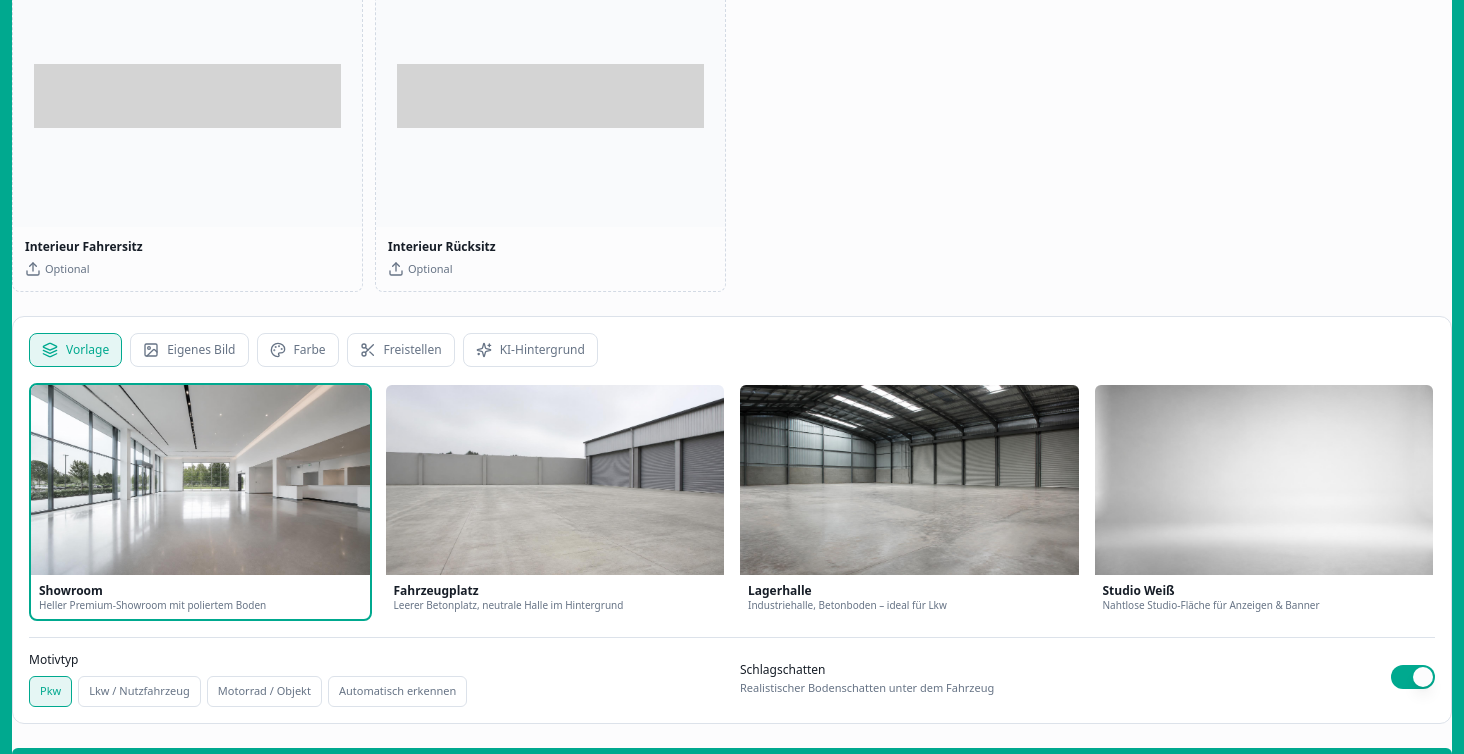
Scenario: Freisteller: unabhängige Original-Uploads › 3/4 Heck rechts kann als einziges Original unabhängig verarbeitet werden
Earlier steps of the test are not shown.
(page scrolled)
Click the button "Freistellen". click: (401, 350)
box: [347,332,455,366]
(page scrolled)
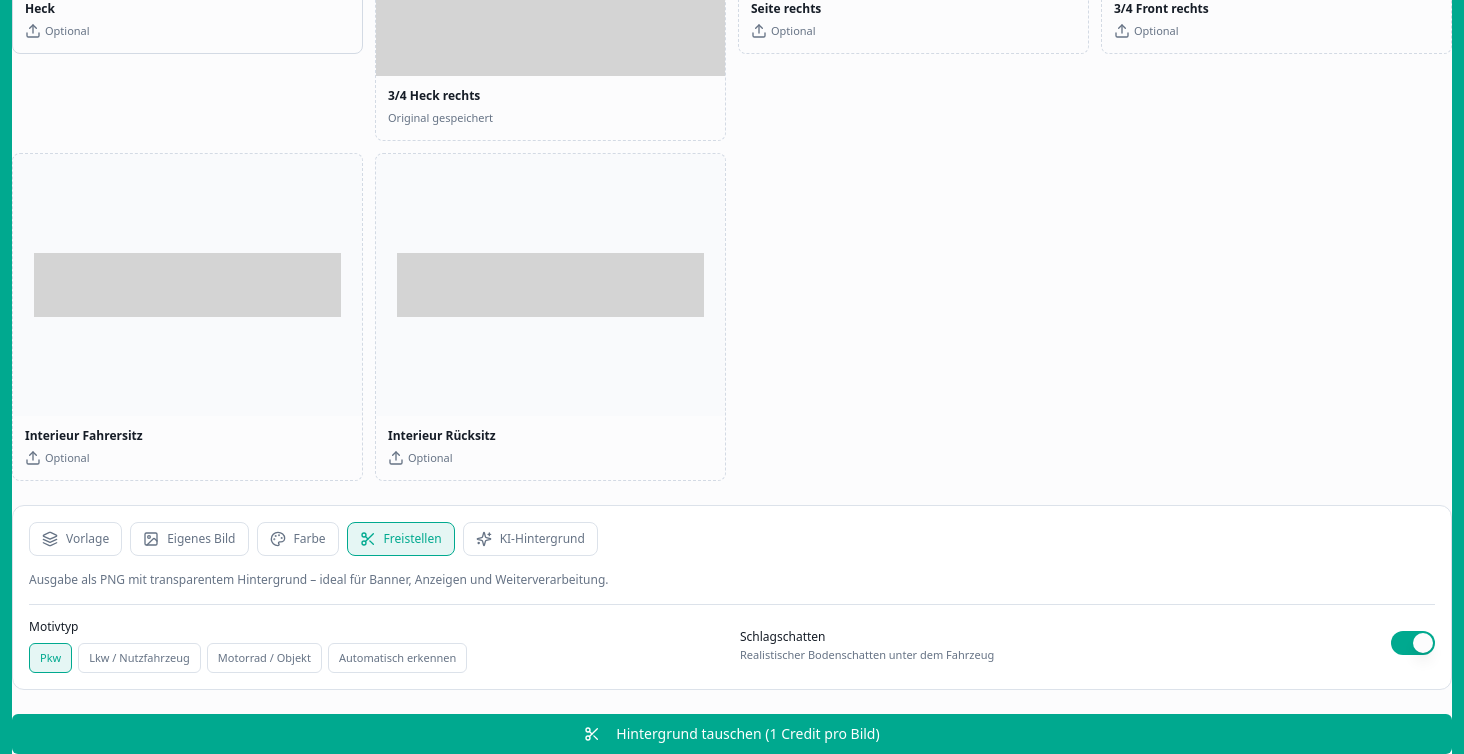
Click the button "Hintergrund tauschen (1 Credit pro Bild)". click: (732, 734)
box: [12,714,1452,753]
(page scrolled)
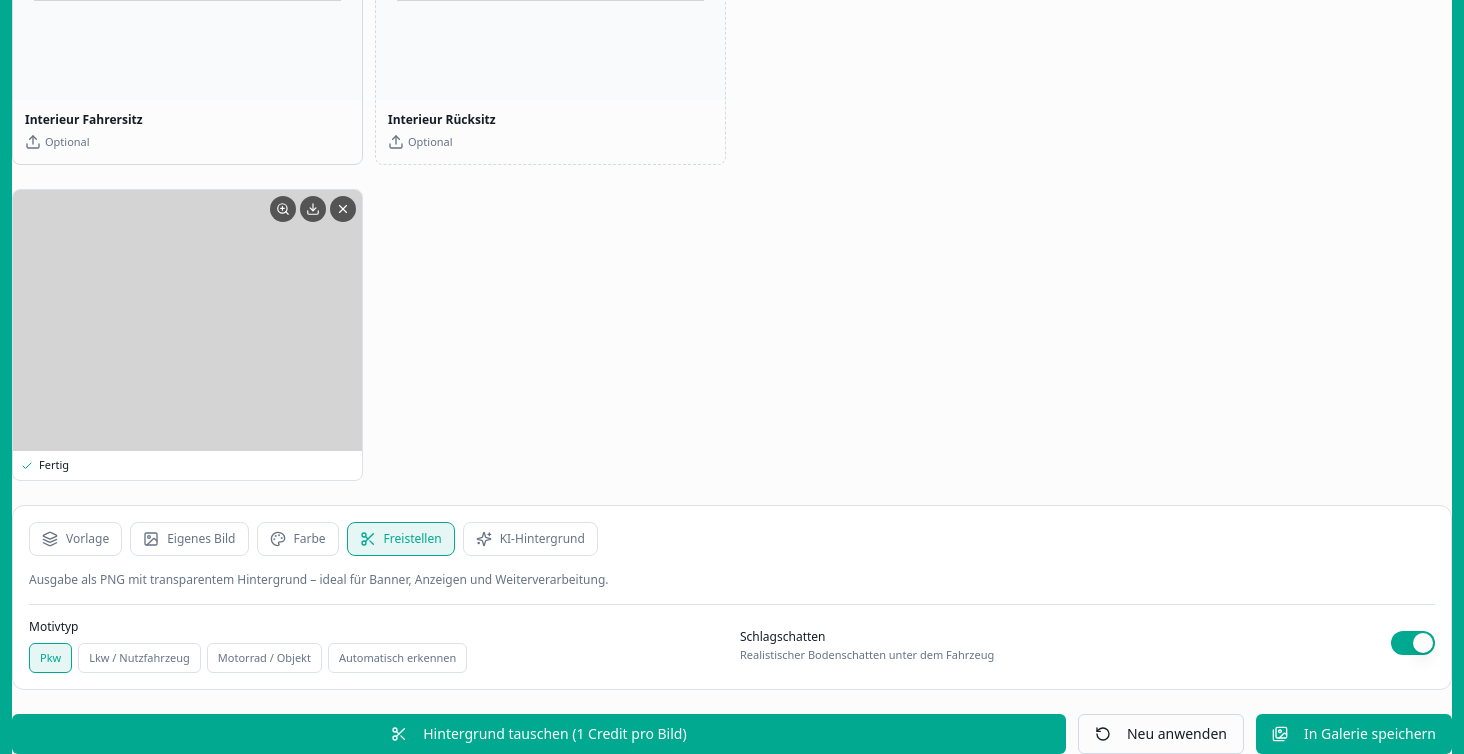
expect the button "In Galerie speichern" is shown: met, box [1256,714,1452,753]
